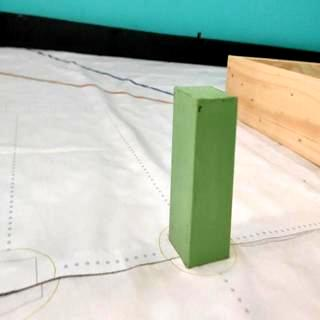greenbox: (167, 83, 239, 270)
